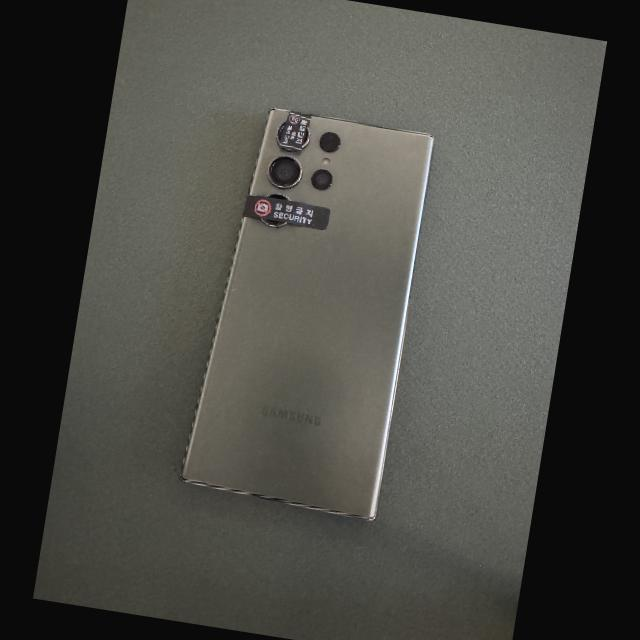lens: (181, 108, 434, 520), (268, 156, 302, 188), (321, 133, 340, 152), (276, 120, 287, 142), (267, 194, 290, 202)
sticker: (242, 196, 330, 230), (279, 111, 312, 153)
